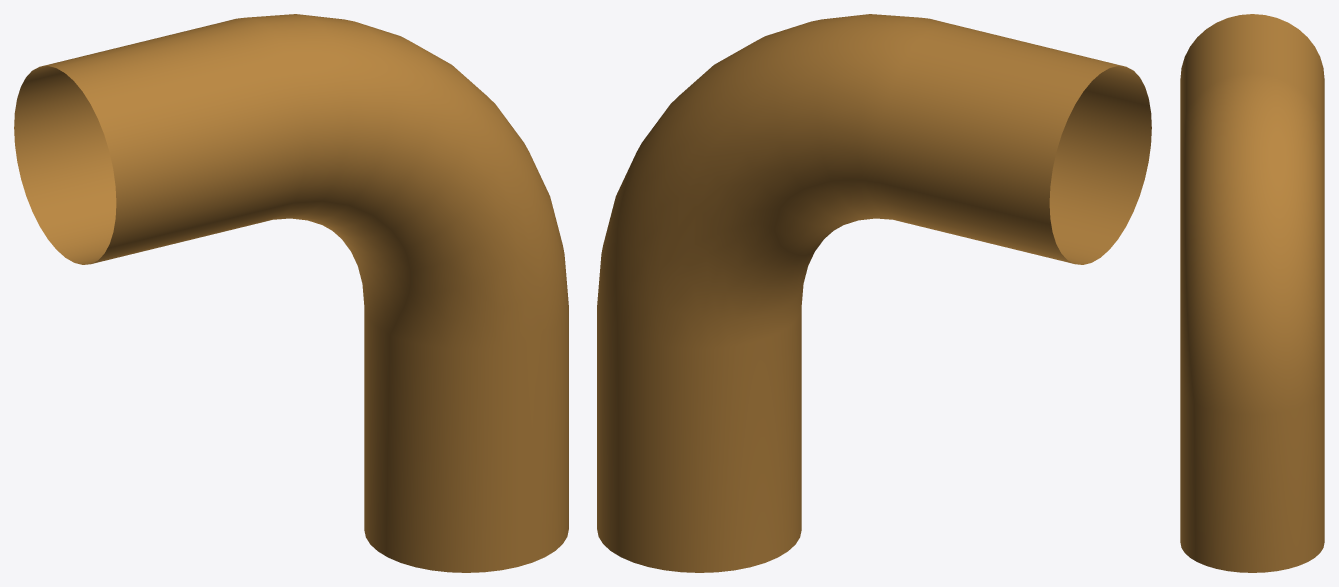
File: Pipe_Corner_Smooth2.fbx
3 views of the same model, side by side, from view 1: azimuth 30°, elevation 25°; view 2: azimuth 150°, elevation 25°; view 3: azimuth 270°, elevation 25° (orthographic). The views are drawn at different scales.
Visible parts, largest first — view 1: Pipe_Corner_Smooth2; view 2: Pipe_Corner_Smooth2; view 3: Pipe_Corner_Smooth2.
Boxes of the visible parts, box(x1,y1,x2,y2) form: Pipe_Corner_Smooth2: box(14, 14, 568, 572); Pipe_Corner_Smooth2: box(597, 14, 1151, 572); Pipe_Corner_Smooth2: box(1180, 14, 1324, 572).
Bounding box in the file's own units: 44.26 × 47.87 × 16.
